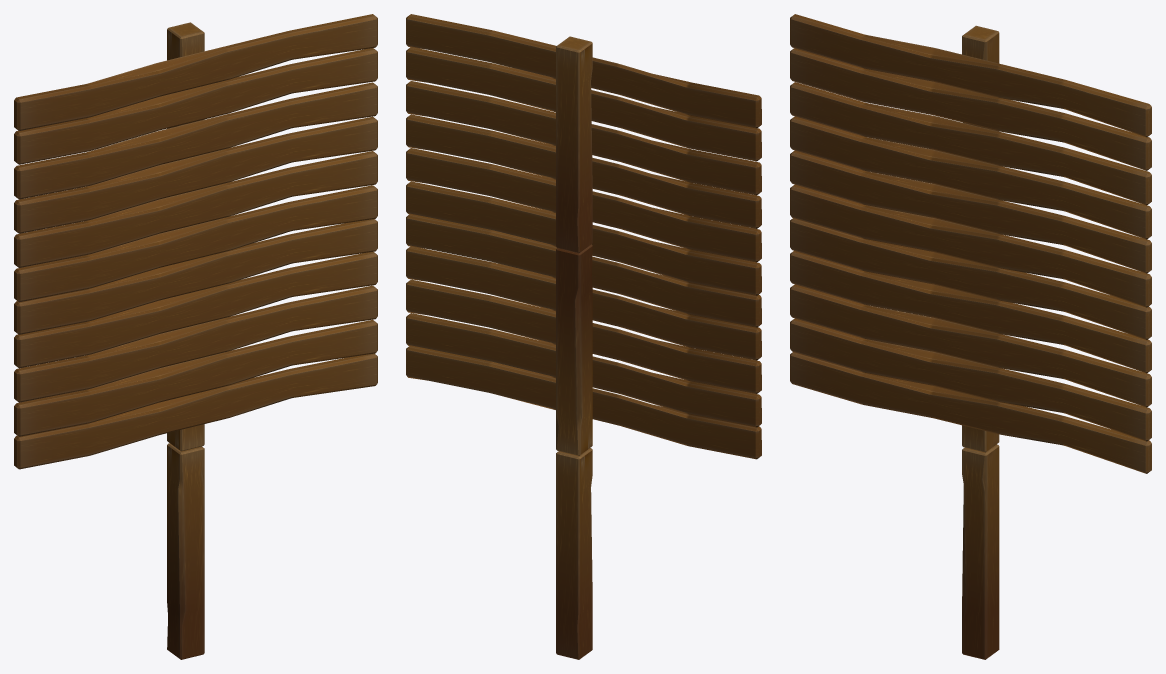
Rendered from fence-sign.fbx.
The picture shows the model from 3 angles, left to right: view 1: azimuth 30°, elevation 25°; view 2: azimuth 150°, elevation 25°; view 3: azimuth 330°, elevation 25°; orthographic projection. The views are drawn at different scales.
Parts seen in each view (by area): view 1: pCube3.007, pCube3.005, pCube3.003, pCube3.004, pCube3.011, pCube3.012, pCube3.002, pCube3.006, pCube3.009, pCube3.008, pCube3.010, pCube1.002 (+2 smaller); view 2: pCube3.011, pCube3.007, pCube3.003, pCube3.005, pCube3.012, pCube3.004, pCube3.002, pCube3.006, pCube3.009, pCube3.010, pCube3.008, pCube1.004 (+2 smaller); view 3: pCube3.007, pCube3.005, pCube3.003, pCube3.004, pCube3.011, pCube3.012, pCube3.002, pCube3.006, pCube3.009, pCube3.010, pCube3.008, pCube1.002 (+2 smaller).
Part boxes in pixels (box(x1,y1,x2,y2)): pCube3.007: box(14, 14, 377, 130); pCube3.005: box(14, 82, 377, 199); pCube3.003: box(14, 151, 377, 267); pCube3.004: box(14, 116, 377, 233); pCube3.011: box(14, 285, 377, 402); pCube3.012: box(14, 319, 377, 436); pCube3.002: box(14, 185, 377, 302); pCube3.006: box(14, 48, 377, 164); pCube3.009: box(14, 251, 377, 368); pCube3.008: box(14, 353, 377, 469); pCube3.010: box(14, 219, 377, 334); pCube1.002: box(167, 443, 204, 659); pCube3.011: box(406, 279, 761, 393); pCube3.007: box(406, 14, 761, 128); pCube3.003: box(406, 148, 761, 262); pCube3.005: box(406, 81, 761, 195); pCube3.012: box(406, 313, 761, 427); pCube3.004: box(406, 114, 761, 228); pCube3.002: box(406, 181, 761, 295); pCube3.006: box(406, 47, 761, 161); pCube3.009: box(406, 246, 761, 360); pCube3.010: box(406, 214, 761, 327); pCube3.008: box(406, 346, 761, 459); pCube1.004: box(556, 36, 592, 253); pCube3.007: box(790, 14, 1151, 137); pCube3.005: box(790, 82, 1151, 205); pCube3.003: box(790, 150, 1151, 273); pCube3.004: box(790, 116, 1151, 239); pCube3.011: box(790, 284, 1151, 407); pCube3.012: box(790, 318, 1151, 441); pCube3.002: box(790, 184, 1151, 307); pCube3.006: box(790, 48, 1151, 170); pCube3.009: box(790, 250, 1151, 373); pCube3.010: box(790, 218, 1151, 339); pCube3.008: box(790, 352, 1151, 473); pCube1.002: box(962, 444, 999, 659).
Bounding box in the file's own units: 21.89 × 36.1 × 2.08.
13 materials, 13 textured.
